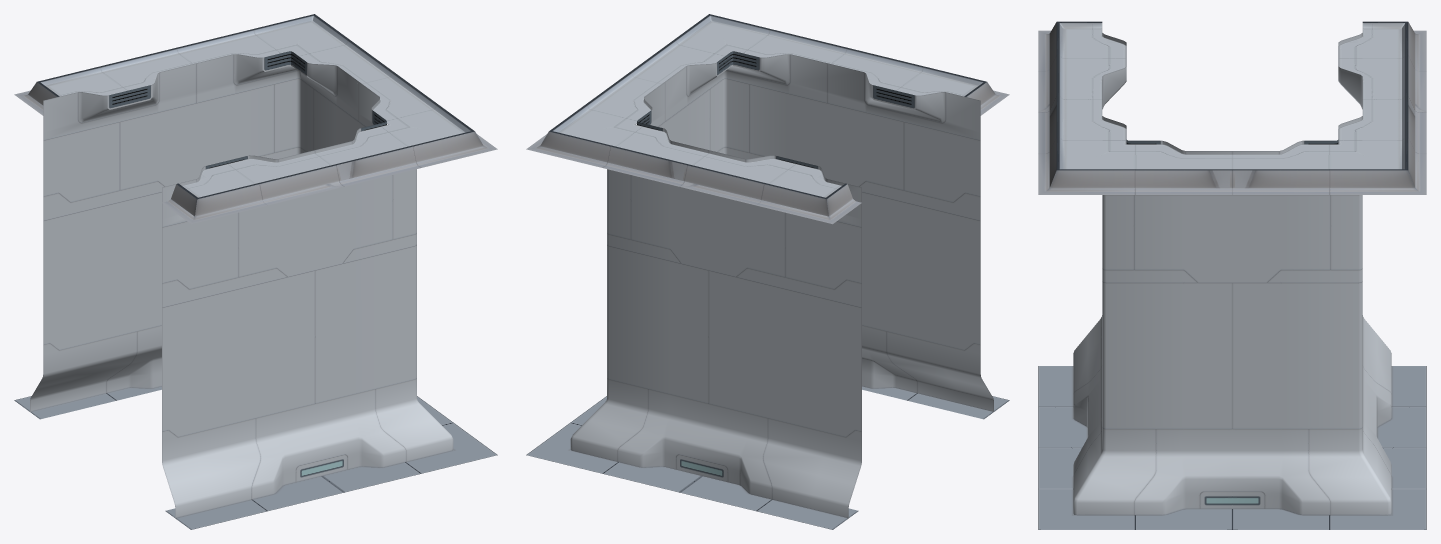
File: Room_A_4m_corner_return.fbx
The picture shows the model from 3 angles, left to right: view 1: azimuth 30°, elevation 25°; view 2: azimuth 150°, elevation 25°; view 3: azimuth 270°, elevation 25°; orthographic projection. The views are drawn at different scales.
Parts seen in each view (by area): view 1: Room_A_4m_corner_return; view 2: Room_A_4m_corner_return; view 3: Room_A_4m_corner_return.
Part boxes in pixels (x1,y1,x2,y2): Room_A_4m_corner_return: [14, 14, 497, 529]; Room_A_4m_corner_return: [526, 14, 1009, 529]; Room_A_4m_corner_return: [1038, 21, 1426, 529].
Size of the model in its own units: 400 by 400 by 400.
3 materials, 3 textured.
